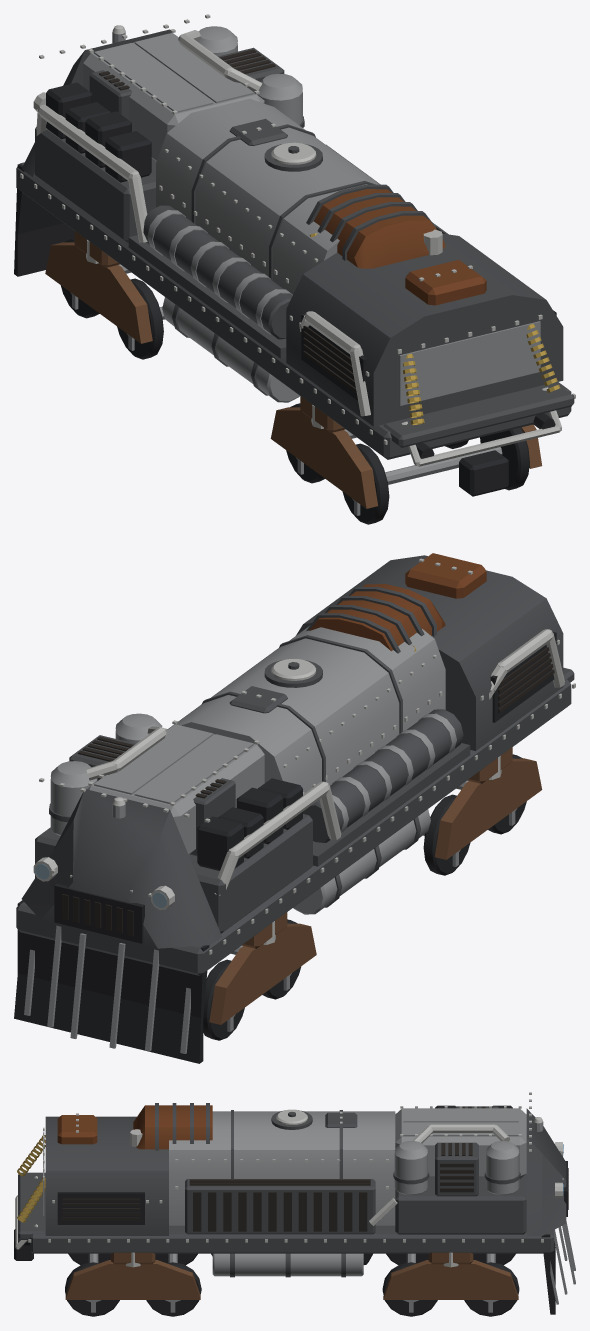
File: locomotive.glb
3 views of the same model, one above another, from view 1: azimuth 30°, elevation 25°; view 2: azimuth 150°, elevation 25°; view 3: azimuth 270°, elevation 25° (orthographic). The views are drawn at different scales.
Visible parts, largest first — view 1: body, anim_wheel_rail, anim_wheel_rail.002, anim_wheel_rail.001; view 2: body, anim_wheel_rail.001, anim_wheel_rail.003; view 3: body, anim_wheel_rail.003, anim_wheel_rail.001, anim_wheel_rail.002, anim_wheel_rail.
Boxes of the visible parts, left/top/right/bottom form: body: left=14, top=14, right=575, bottom=508; anim_wheel_rail: left=342, top=427, right=529, bottom=524; anim_wheel_rail.002: left=117, top=278, right=164, bottom=359; anim_wheel_rail.001: left=286, top=403, right=468, bottom=483; body: left=14, top=553, right=575, bottom=1063; anim_wheel_rail.001: left=423, top=794, right=470, bottom=875; anim_wheel_rail.003: left=203, top=959, right=244, bottom=1040; body: left=14, top=1092, right=575, bottom=1314; anim_wheel_rail.003: left=464, top=1253, right=519, bottom=1316; anim_wheel_rail.001: left=146, top=1253, right=201, bottom=1316; anim_wheel_rail.002: left=382, top=1253, right=437, bottom=1316; anim_wheel_rail: left=65, top=1253, right=119, bottom=1316.
Size of the model in its own units: 2.07 by 2.5 by 7.07.
